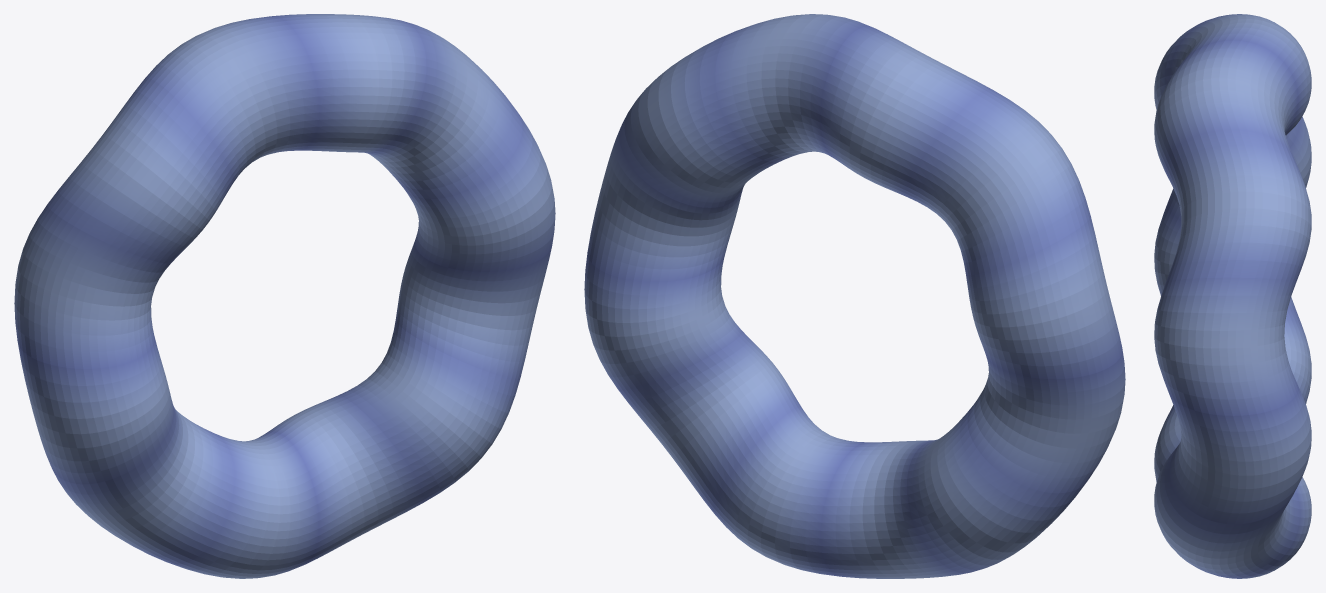
File: step_3.glb
The picture shows the model from 3 angles, left to right: view 1: azimuth 30°, elevation 25°; view 2: azimuth 150°, elevation 25°; view 3: azimuth 270°, elevation 25°; orthographic projection. The views are drawn at different scales.
Visible parts, largest first — view 1: world; view 2: world; view 3: world.
Part boxes in pixels (<box>): world: <box>14,14,555,578</box>; world: <box>584,14,1125,578</box>; world: <box>1154,14,1311,578</box>.
Size of the model in its own units: 26 by 26 by 7.25.
